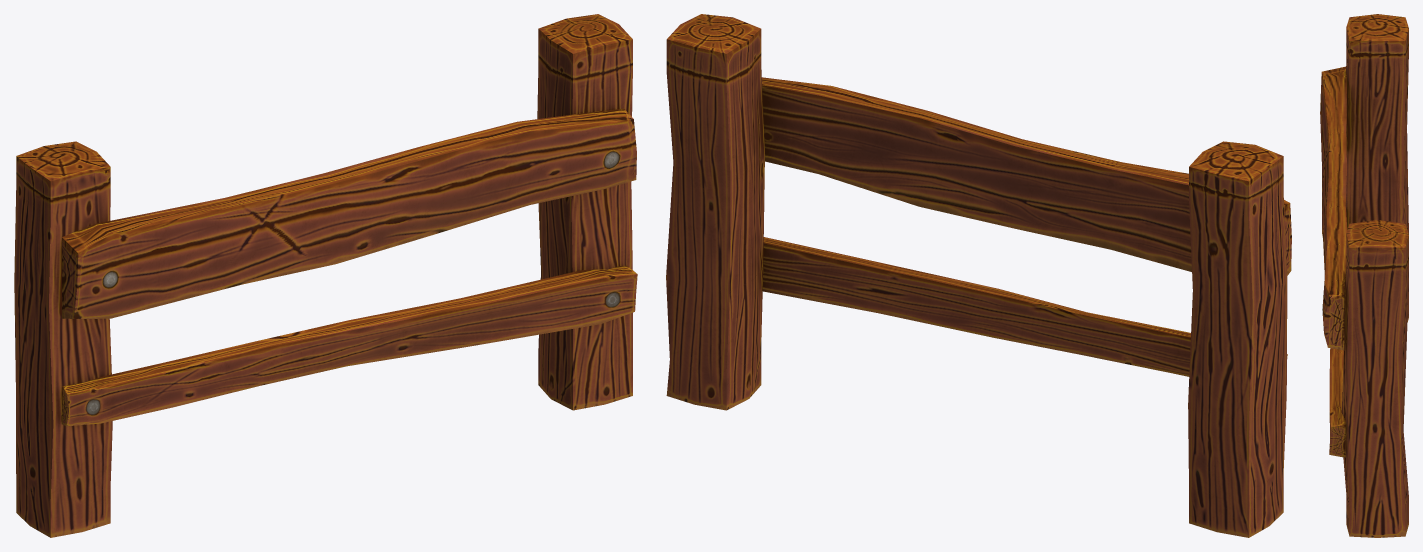
Rendered from stylized_fence.glb.
3 views of the same model, side by side, from view 1: azimuth 30°, elevation 25°; view 2: azimuth 150°, elevation 25°; view 3: azimuth 270°, elevation 25° (orthographic). The views are drawn at different scales.
Visible parts, largest first — view 1: Cube.006, Cube.004, Cube.007, Cube.005; view 2: Cube.006, Cube.004, Cube.005, Cube.007; view 3: Cube.005, Cube.004, Cube.006, Cube.007.
Boxes of the visible parts, box(x1,y1,x2,y2) form: Cube.006: box(62, 108, 636, 318); Cube.004: box(14, 141, 112, 537); Cube.007: box(61, 265, 637, 426); Cube.005: box(537, 14, 632, 410); Cube.006: box(762, 77, 1291, 275); Cube.004: box(1188, 141, 1287, 537); Cube.005: box(666, 14, 764, 410); Cube.007: box(762, 237, 1287, 376); Cube.005: box(1341, 220, 1408, 537); Cube.004: box(1346, 14, 1408, 322); Cube.006: box(1320, 66, 1347, 350); Cube.007: box(1329, 348, 1345, 457).
Size of the model in its own units: 8.5 by 4.98 by 1.36.
1 material, 1 textured.
